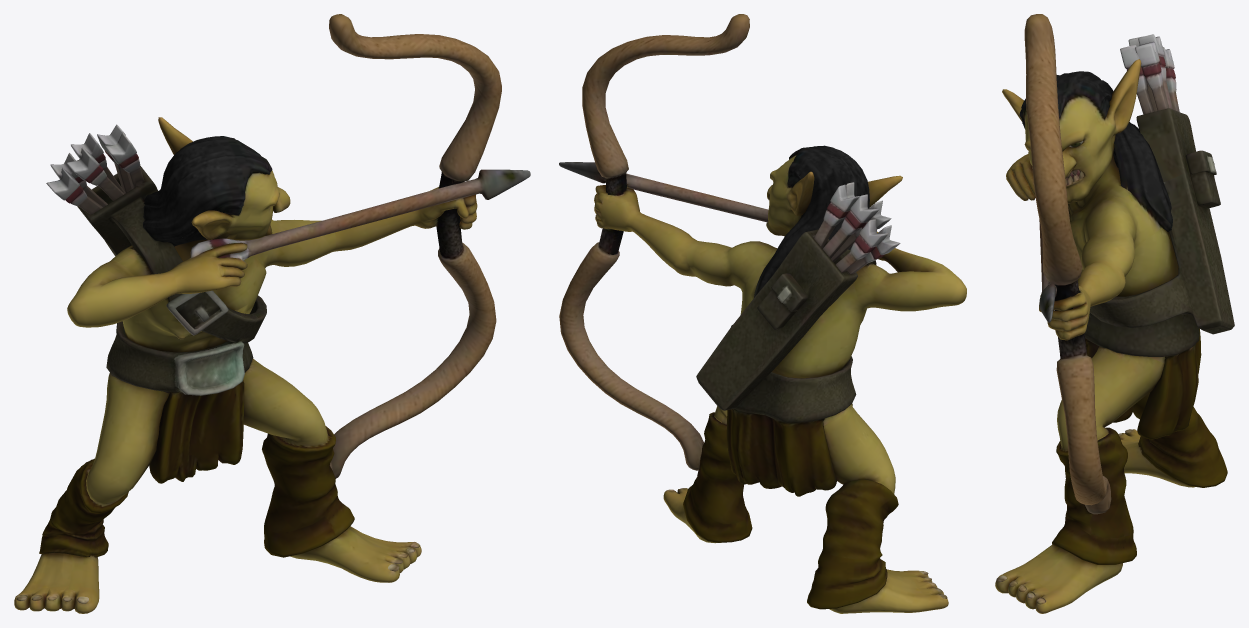
File: MZ4250 - Goblin with Bow.glb
The picture shows the model from 3 angles, left to right: view 1: azimuth 30°, elevation 25°; view 2: azimuth 150°, elevation 25°; view 3: azimuth 270°, elevation 25°; orthographic projection. The views are drawn at different scales.
Visible parts, largest first — view 1: Quiver.001; view 2: Quiver.001; view 3: Quiver.001.
Boxes of the visible parts, left/top/right/bottom form: Quiver.001: left=14, top=14, right=530, bottom=613; Quiver.001: left=559, top=14, right=966, bottom=613; Quiver.001: left=995, top=14, right=1234, bottom=613.
Size of the model in its own units: 0.6621 by 0.7506 by 0.2904.
Materials: 1 (1 with a texture image).
